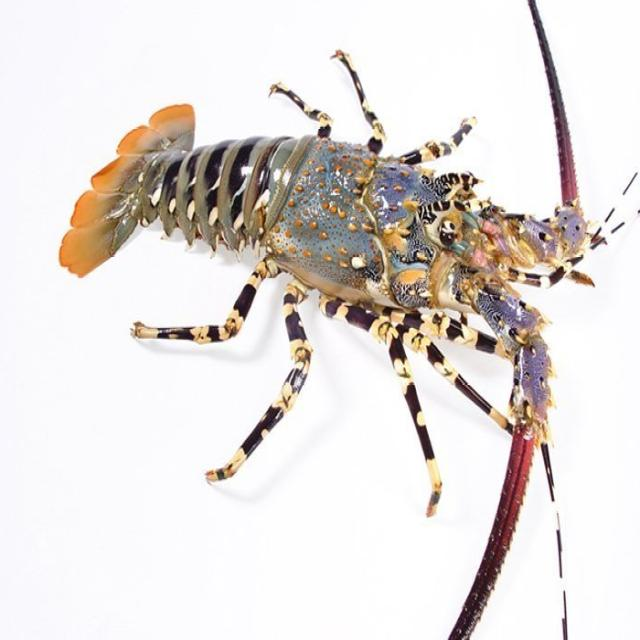Lobster: (60, 1, 605, 638)
